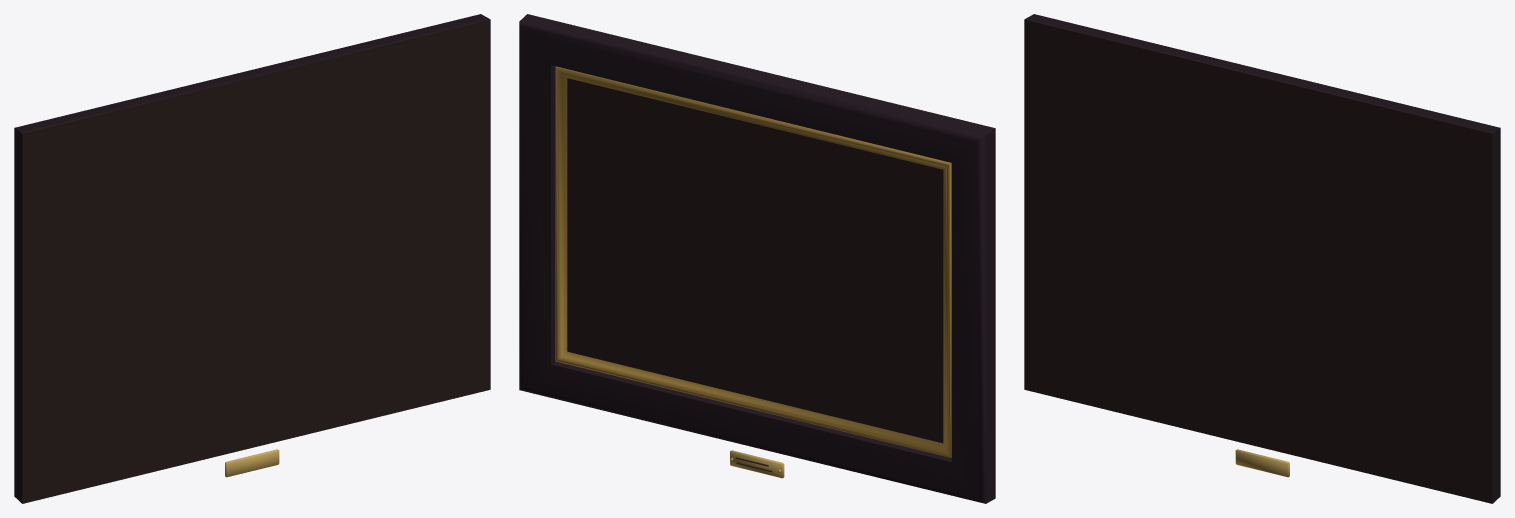
File: ebony_dark_land.glb
The picture shows the model from 3 angles, left to right: view 1: azimuth 30°, elevation 25°; view 2: azimuth 150°, elevation 25°; view 3: azimuth 330°, elevation 25°; orthographic projection.
Visible parts, largest first — view 1: ebony_dark_land; view 2: ebony_dark_land; view 3: ebony_dark_land.
Part boxes in pixels (x1,y1,x2,y2): ebony_dark_land: (14,14,490,503); ebony_dark_land: (519,14,995,503); ebony_dark_land: (1024,14,1500,503).
Size of what is drawn, in the model's own units: 1.22 by 0.987 by 0.052.
